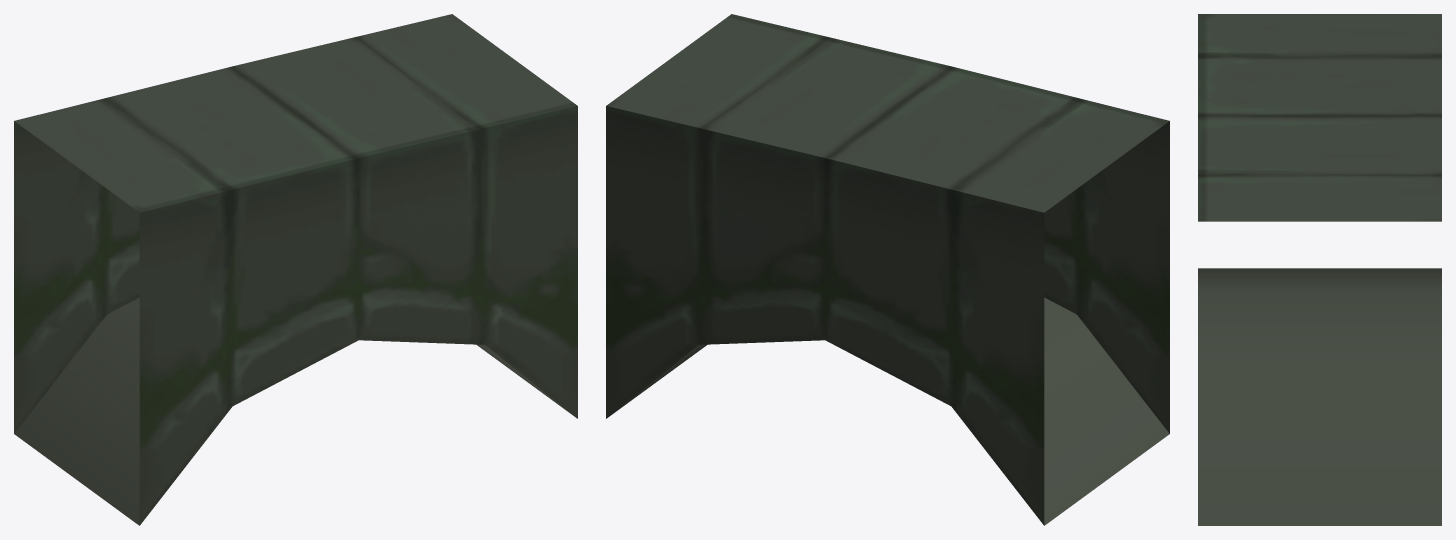
Rendered from yw_shanlin_stelae_002.FBX.
3 views of the same model, side by side, from view 1: azimuth 30°, elevation 25°; view 2: azimuth 150°, elevation 25°; view 3: azimuth 270°, elevation 25° (orthographic). The views are drawn at different scales.
Parts seen in each view (by area): view 1: yw_shanlin_stelae_002; view 2: yw_shanlin_stelae_002; view 3: yw_shanlin_stelae_002.
Part boxes in pixels (left/top/right/bottom): yw_shanlin_stelae_002: left=14, top=14, right=577, bottom=525; yw_shanlin_stelae_002: left=606, top=14, right=1169, bottom=525; yw_shanlin_stelae_002: left=1198, top=14, right=1441, bottom=525.
Size of the model in its own units: 304 by 151 by 209.
